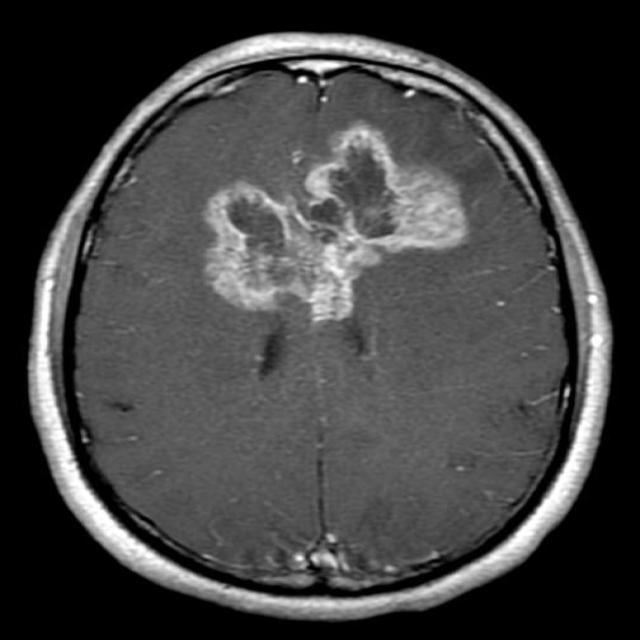Tumor-Cell: (191, 120, 441, 304)
